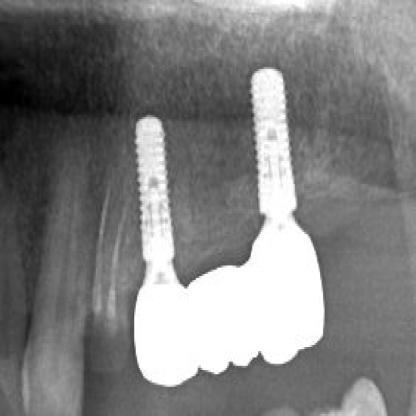ITI: (246, 58, 304, 219), (126, 108, 184, 266)
